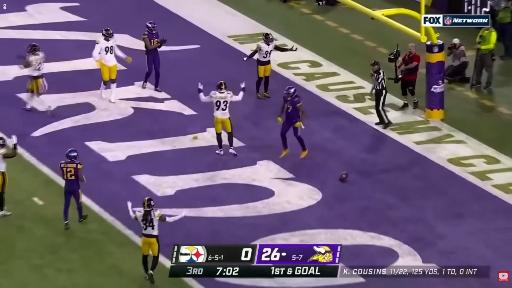Helmet: (27, 43, 40, 54), (143, 198, 154, 210), (66, 149, 78, 160), (284, 86, 296, 97), (102, 28, 113, 40), (146, 22, 156, 33), (263, 33, 274, 43), (217, 81, 227, 91), (0, 136, 6, 148)
Jersey: (93, 38, 126, 66), (208, 91, 242, 118), (135, 210, 161, 235), (60, 161, 82, 190), (283, 95, 301, 122), (26, 52, 45, 76), (257, 42, 275, 64), (143, 32, 159, 45), (0, 148, 7, 171)
Player: (128, 198, 185, 283), (198, 81, 245, 155), (244, 33, 297, 98), (93, 28, 131, 102), (60, 149, 87, 229), (20, 43, 51, 112), (278, 86, 307, 158), (142, 22, 166, 91), (0, 136, 17, 216)
